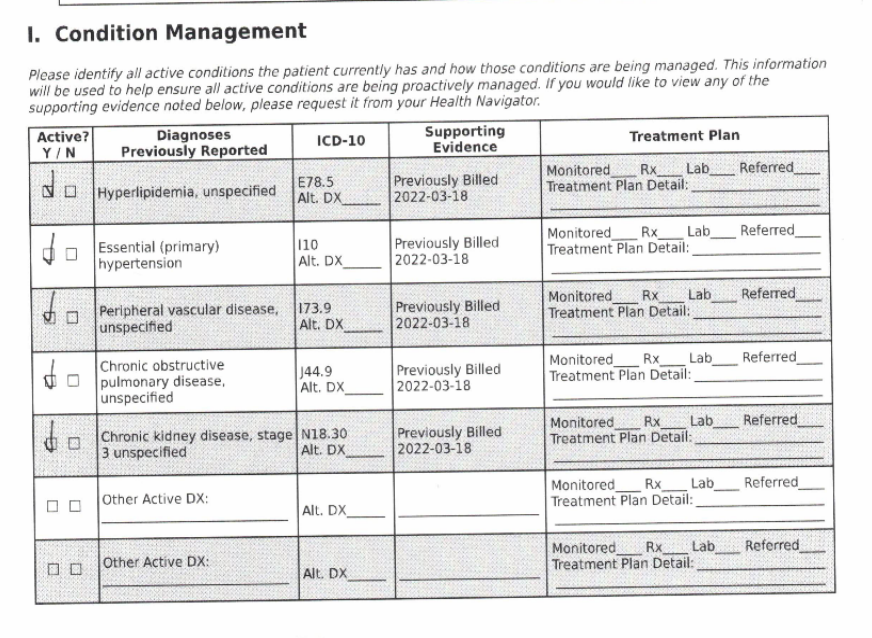checked: (34, 289, 67, 336), (37, 417, 61, 461), (38, 230, 62, 273), (34, 168, 61, 206), (39, 358, 62, 397)
